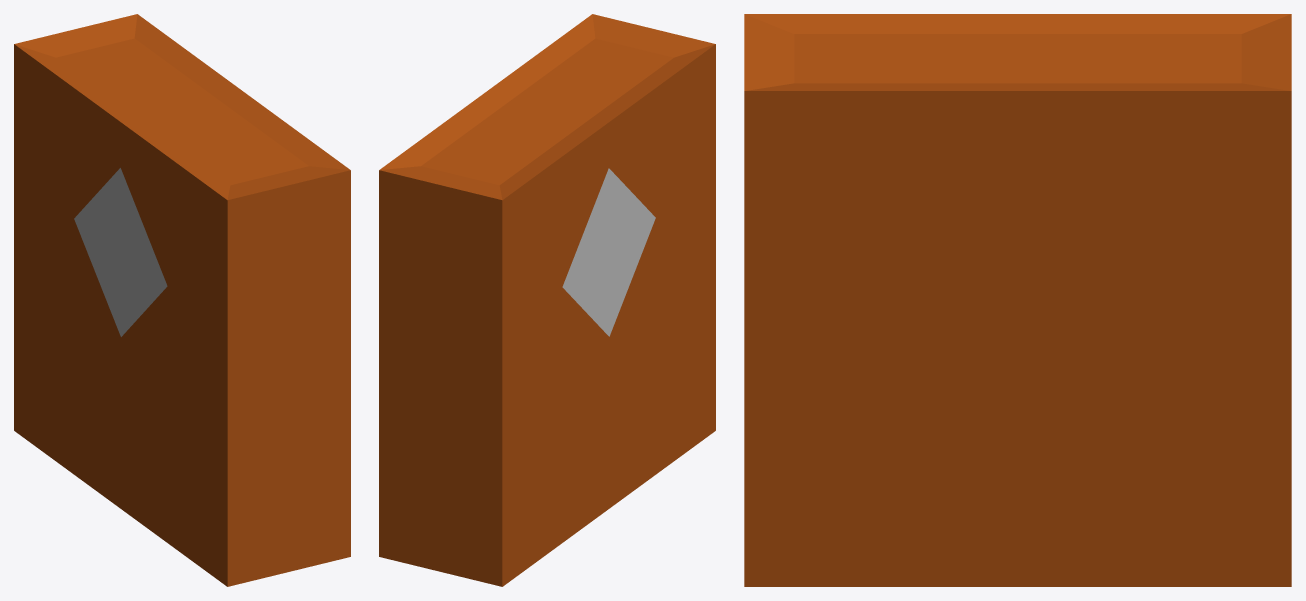
3 renders of one model, left to right at view 1: azimuth 30°, elevation 25°; view 2: azimuth 150°, elevation 25°; view 3: azimuth 270°, elevation 25°, orthographic. The views are drawn at different scales.
Visible parts, largest first — view 1: Cube; view 2: Cube; view 3: Cube.
Part boxes in pixels (x1=…): Cube: x1=14, y1=14, x2=350, y2=586; Cube: x1=379, y1=14, x2=715, y2=586; Cube: x1=744, y1=14, x2=1291, y2=586.
Size of the model in its own units: 66.75 by 200 by 200.
